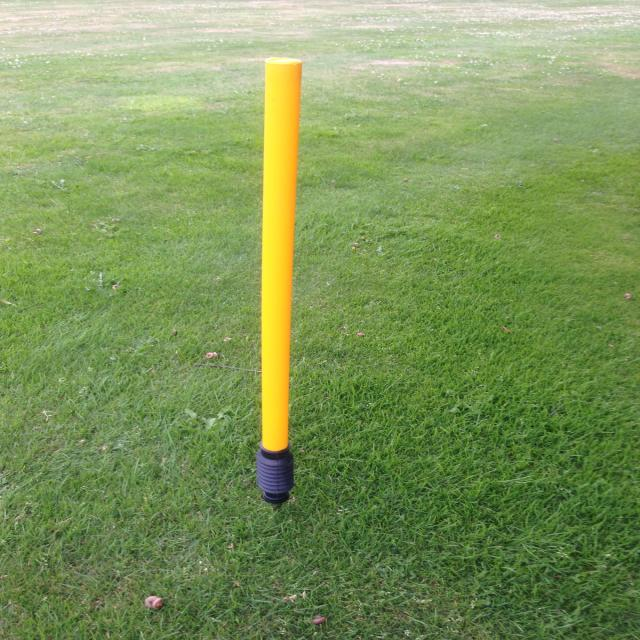stump: (262, 55, 302, 523)
